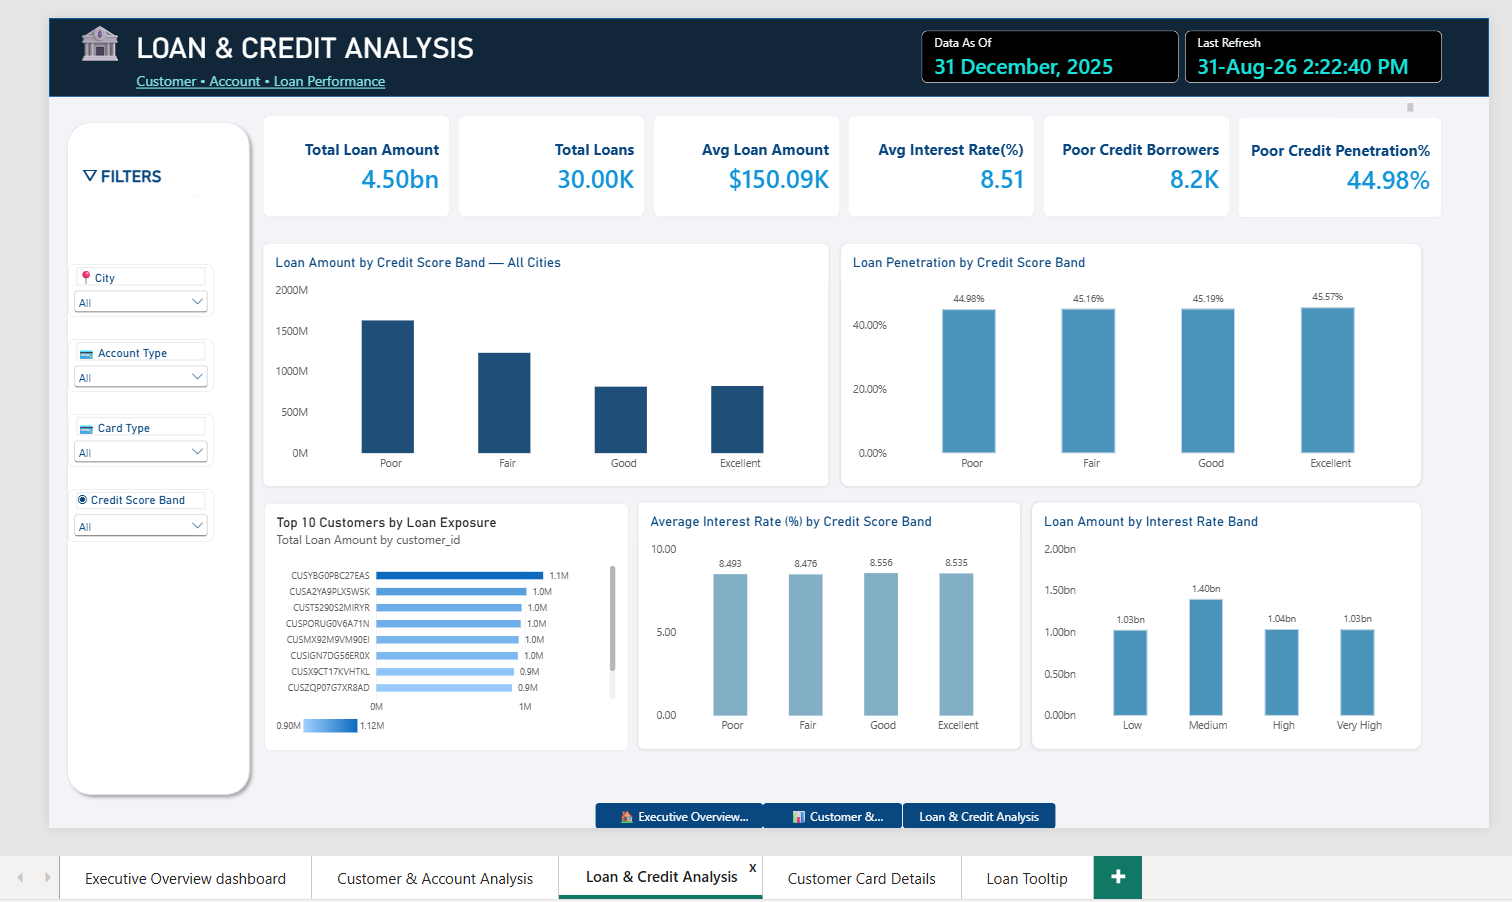

This screenshot's page, from the dashboard's own definition file:
{"tool":"powerbi","page":{"name":"Loan & Credit Analysis","canvas":[1920,1080],"ordinal":2},"visuals":[{"type":"shape","box":[0,0,1920,105],"z":0},{"type":"textbox","title":"LOAN & CREDIT ANALYSIS","box":[116,16,1702.3,108.1],"z":1000},{"type":"shape","box":[14.3,130.6,261.3,914.5],"z":2000},{"type":"textbox","title":"▽  FILTERS","box":[44,198,153.5,40.1],"z":3000},{"type":"textbox","box":[34.3,0,82.6,71.7],"z":4000},{"type":"slicer","fields":{"Values":["customers.city"]},"box":[25,328,195,70],"z":5000},{"type":"cardVisual","fields":{"Data":["analysis.Total Loan Amount"]},"box":[285,130,250,135],"z":6000},{"type":"cardVisual","fields":{"Data":["analysis.Total Loans"]},"box":[545,130,250,135],"z":7000},{"type":"cardVisual","fields":{"Data":["analysis.Poor Credit Loan Penetration %"]},"box":[1585,130.8,272,135],"z":8000},{"type":"cardVisual","fields":{"Data":["analysis.Average Interest Rate"]},"box":[1065,130,250,135],"z":9000},{"type":"cardVisual","fields":{"Data":["analysis.Average Loan Amount"]},"box":[805,130,250,135],"z":10000},{"type":"cardVisual","title":"Poor Credit Loan Customers","fields":{"Data":["analysis.Poor Credit Customers With Loans"]},"box":[1325,130,250,135],"z":11000},{"type":"slicer","fields":{"Values":["accounts.account_type"]},"box":[25,428,195,70],"z":12000},{"type":"slicer","fields":{"Values":["cards.card_type"]},"box":[25,528,195,70],"z":13000},{"type":"slicer","fields":{"Values":["customers.Credit Score Band"]},"box":[25,628,195,70],"z":14000},{"type":"columnChart","fields":{"Category":["customers.Credit Score Band"],"Y":["analysis.Total Loan Amount"]},"box":[285,300,755,325],"z":15000},{"type":"columnChart","title":"Loan Penetration by Credit Score Band","fields":{"Category":["customers.Credit Score Band"],"Y":["analysis.Loan Penetration %"]},"box":[1055,300,775,325],"z":16000},{"type":"clusteredColumnChart","title":"Average Interest Rate (%) by Credit Score Band","fields":{"Category":["customers.Credit Score Band"],"Y":["analysis.Average Interest Rate"]},"box":[785,645,510,330],"z":17000},{"type":"columnChart","title":"Loan Amount by Interest Rate Band","fields":{"Category":["loans.Interest Rate Band"],"Y":["analysis.Total Loan Amount"]},"box":[1310,645,520,330],"z":18000},{"type":"actionButton","box":[728.4,1046,224,34],"z":19000},{"type":"actionButton","box":[952.4,1046,186,34],"z":20000},{"type":"actionButton","box":[1138.4,1046,204,34],"z":21000},{"type":"cardVisual","fields":{"Data":["analysis.Data As Of","Min(Refresh Info.Last Refresh)"]},"box":[1164,16,694,70],"z":22000},{"type":"clusteredBarChart","title":"Top 10 Customers by Loan Exposure","fields":{"Category":["customers.customer_id"],"Y":["analysis.Total Loan Amount"]},"box":[286,646,486,330],"z":23000}]}

Visuals, with their boxes on the page's 1920x1080 design canvas (x1, y1, x2, y2). These are canvas units, not pixel positions in the 1512x902 screenshot, which may show the page scaled, cropped or inside an application window:
shape: x1=0, y1=0, x2=1920, y2=105
"LOAN & CREDIT ANALYSIS" textbox: x1=116, y1=16, x2=1818, y2=124
shape: x1=14, y1=131, x2=276, y2=1045
"▽  FILTERS" textbox: x1=44, y1=198, x2=198, y2=238
textbox: x1=34, y1=0, x2=117, y2=72
slicer - customers.city: x1=25, y1=328, x2=220, y2=398
cardVisual - analysis.Total Loan Amount: x1=285, y1=130, x2=535, y2=265
cardVisual - analysis.Total Loans: x1=545, y1=130, x2=795, y2=265
cardVisual - analysis.Poor Credit Loan Penetration %: x1=1585, y1=131, x2=1857, y2=266
cardVisual - analysis.Average Interest Rate: x1=1065, y1=130, x2=1315, y2=265
cardVisual - analysis.Average Loan Amount: x1=805, y1=130, x2=1055, y2=265
"Poor Credit Loan Customers" cardVisual: x1=1325, y1=130, x2=1575, y2=265
slicer - accounts.account_type: x1=25, y1=428, x2=220, y2=498
slicer - cards.card_type: x1=25, y1=528, x2=220, y2=598
slicer - customers.Credit Score Band: x1=25, y1=628, x2=220, y2=698
columnChart - customers.Credit Score Band x analysis.Total Loan Amount: x1=285, y1=300, x2=1040, y2=625
"Loan Penetration by Credit Score Band" columnChart: x1=1055, y1=300, x2=1830, y2=625
"Average Interest Rate (%) by Credit Score Band" clusteredColumnChart: x1=785, y1=645, x2=1295, y2=975
"Loan Amount by Interest Rate Band" columnChart: x1=1310, y1=645, x2=1830, y2=975
actionButton: x1=728, y1=1046, x2=952, y2=1080
actionButton: x1=952, y1=1046, x2=1138, y2=1080
actionButton: x1=1138, y1=1046, x2=1342, y2=1080
cardVisual - analysis.Data As Of x Min(Refresh Info.Last Refresh): x1=1164, y1=16, x2=1858, y2=86
"Top 10 Customers by Loan Exposure" clusteredBarChart: x1=286, y1=646, x2=772, y2=976
